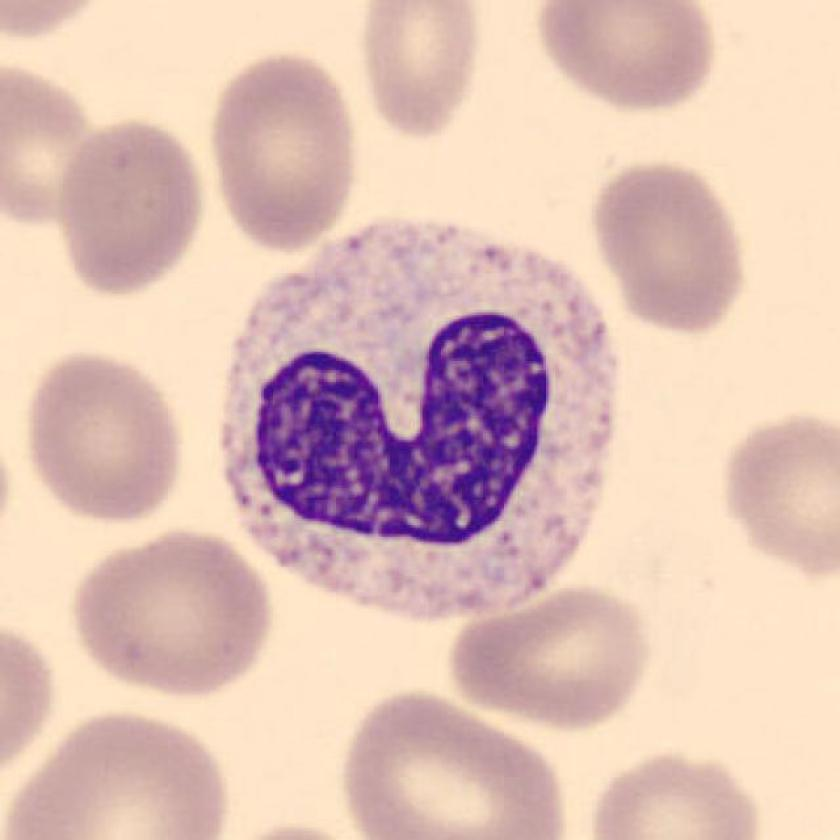neutrophil: (216, 216, 617, 619)
